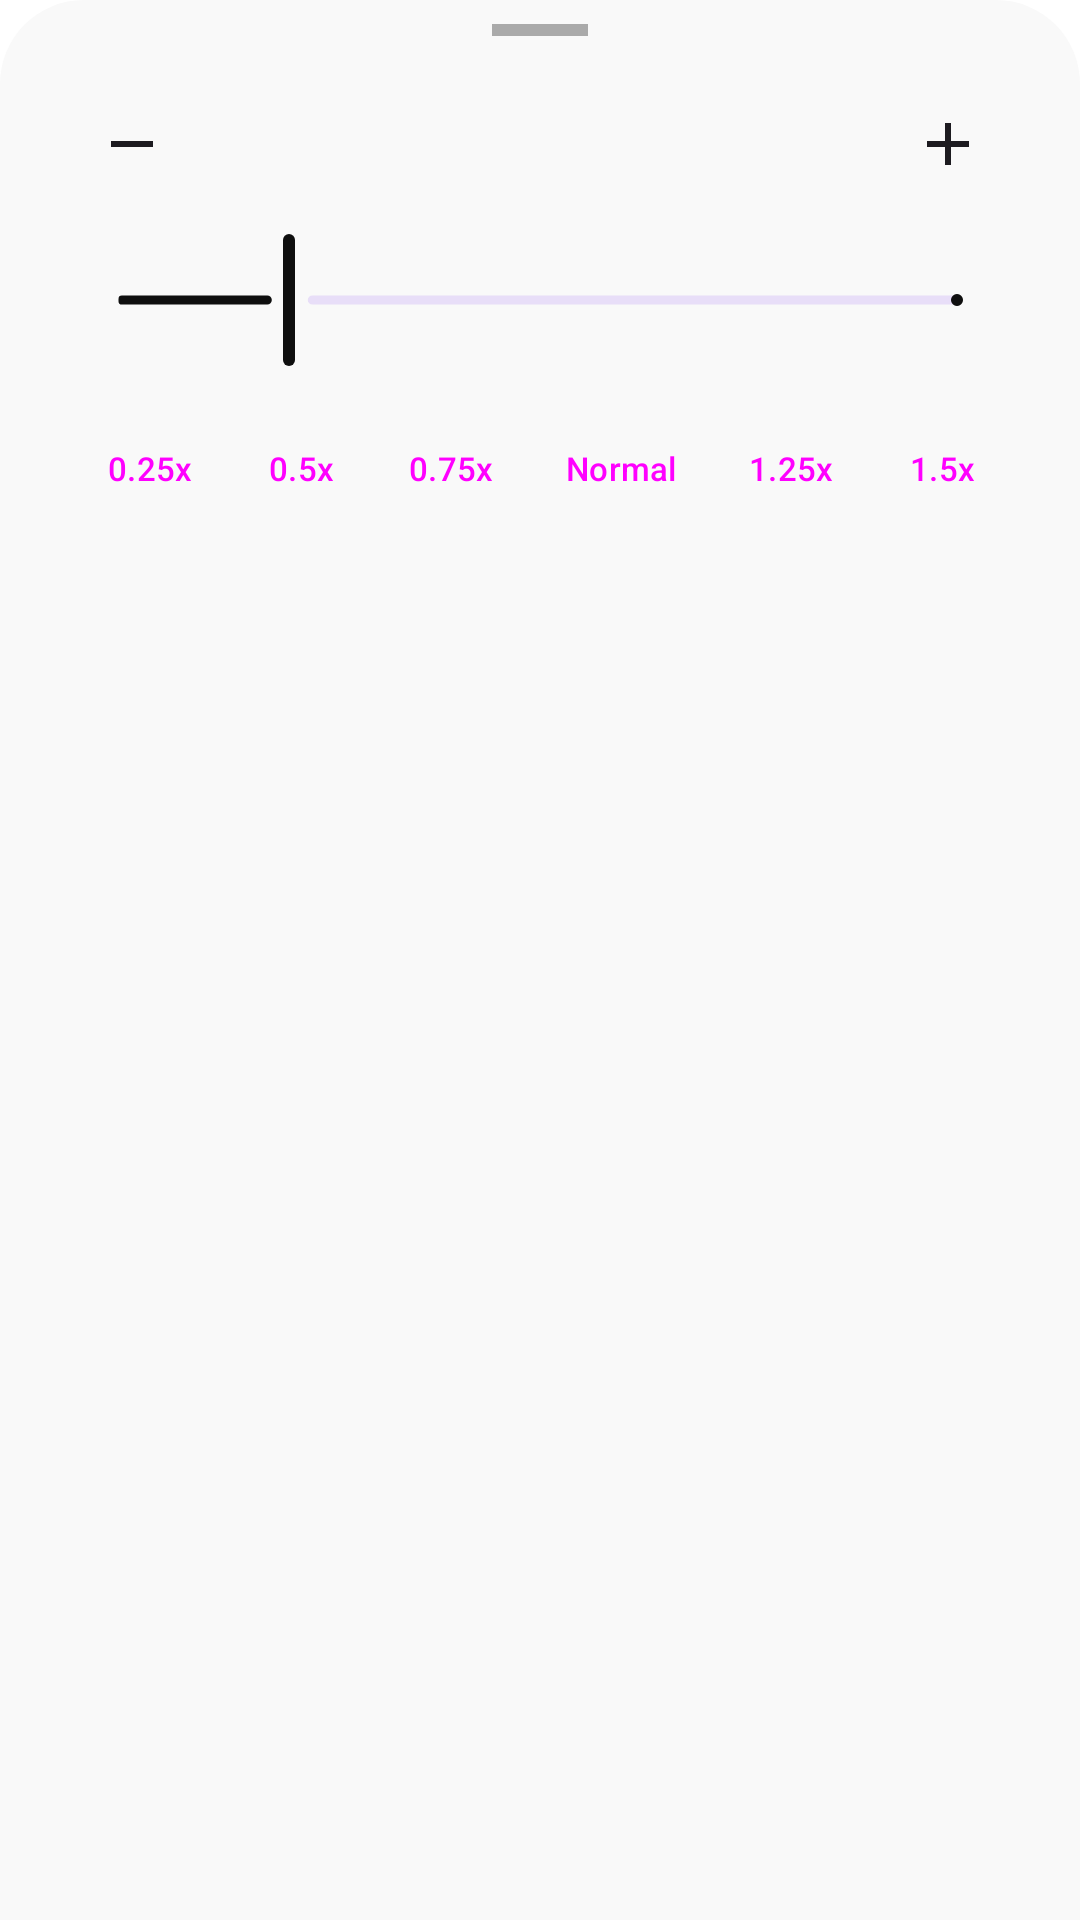

Icons on this 1080px×1920px Android screen, each with the point to tap as point (x, y):
add: point (948, 144)
